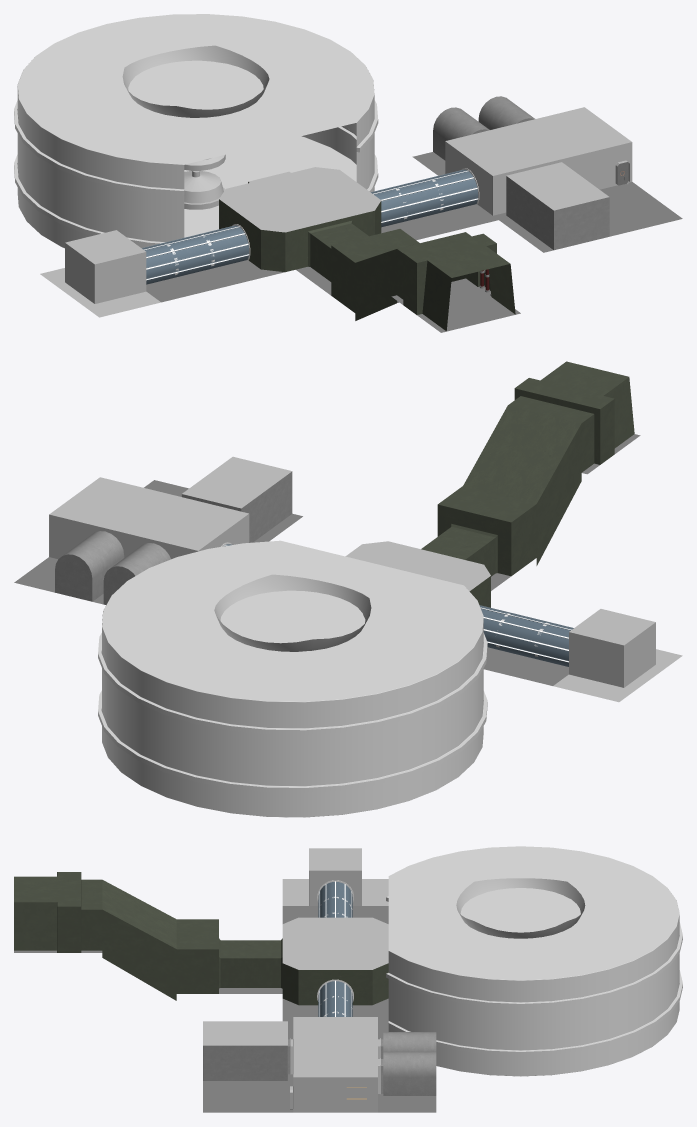
File: kapiento inside.fbx
3 views of the same model, one above another, from view 1: azimuth 30°, elevation 25°; view 2: azimuth 150°, elevation 25°; view 3: azimuth 270°, elevation 25° (orthographic). The views are drawn at different scales.
Visible parts, largest first — view 1: reactor walls, main walls, bunker floor, ceilings, armory + lounge + barracks walls, main walls.001, main walls.003, reactor, boris office walls; view 2: reactor walls, main walls, ceilings, armory + lounge + barracks walls, bunker floor, boris office walls, reactor, main walls.001, main walls.003; view 3: reactor walls, main walls, armory + lounge + barracks walls, ceilings, bunker floor, main walls.003, reactor, main walls.001, boris office walls.
Boxes of the visible parts, x1,y1,x2,y2 form: reactor walls: (14,14,378,248); main walls: (219,182,515,331); bunker floor: (40,152,682,332); ceilings: (65,107,631,264); armory + lounge + barracks walls: (433,96,632,250); main walls.001: (142,169,478,284); main walls.003: (219,167,381,232); reactor: (122,45,269,209); boris office walls: (65,243,146,303); reactor walls: (98,540,487,817); main walls: (421,361,634,607); ceilings: (49,456,655,645); armory + lounge + barracks walls: (49,471,292,604); bunker floor: (14,434,682,702); boris office walls: (569,622,655,687); reactor: (214,574,371,651); main walls.001: (224,544,573,666); main walls.003: (345,541,490,591); reactor walls: (386,846,682,1076); main walls: (14,872,388,1005); armory + lounge + barracks walls: (203,1032,436,1112); ceilings: (203,848,377,1077); bunker floor: (14,879,436,1112); main walls.003: (282,917,388,969); reactor: (456,878,585,938); main walls.001: (318,881,352,1016); boris office walls: (309,870,361,905).
Size of the model in its own units: 5230 by 1250 by 6311.
